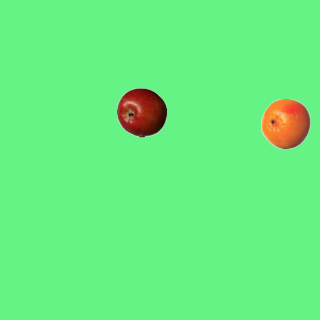Apple Braeburn: (116, 87, 166, 137)
Grapefruit Pink: (260, 98, 310, 148)
